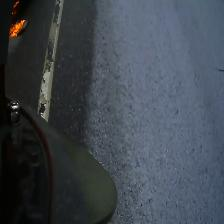fire: (10, 18, 26, 38)
